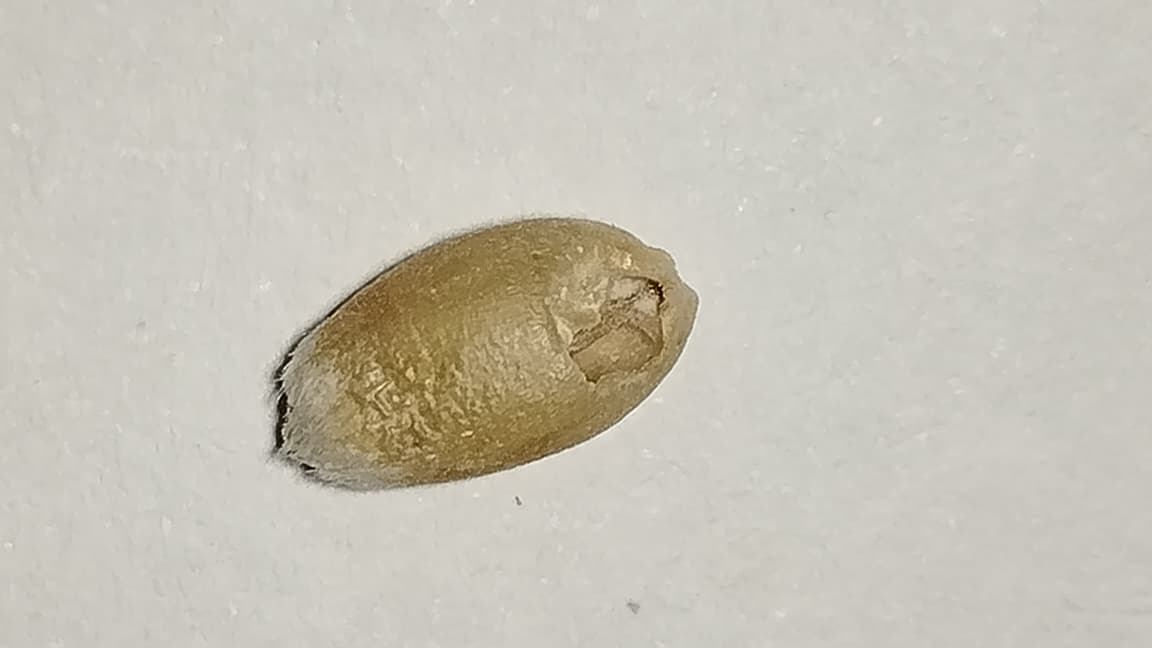damage: (284, 221, 697, 489)
insectdamage: (535, 258, 670, 385)
